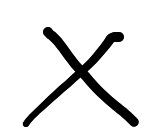mult: (23, 26, 139, 127)
